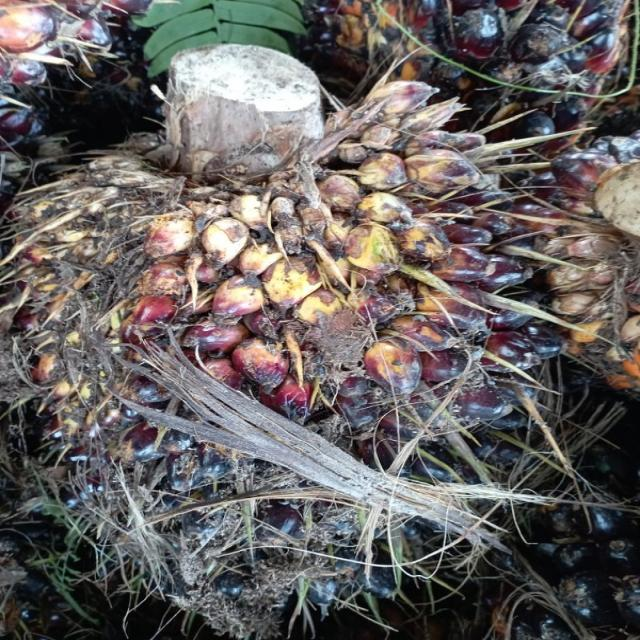fraksi 00: (21, 133, 529, 636)
